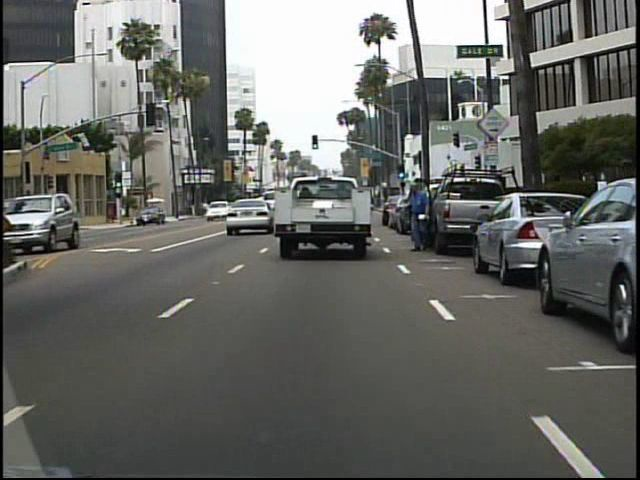person: (404, 179, 432, 253)
